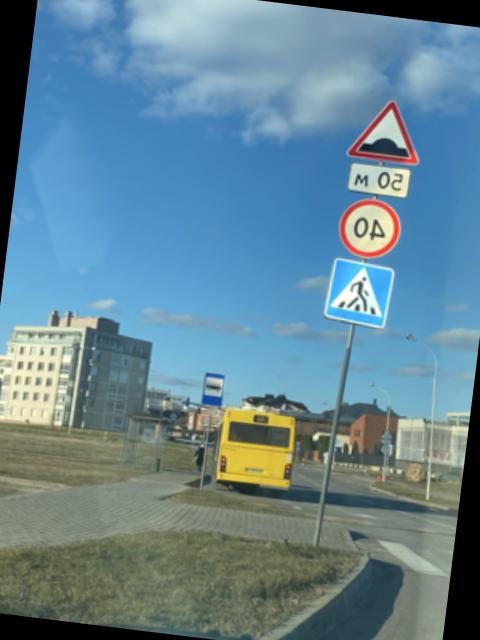crosswalk-sign: (325, 257, 399, 330)
